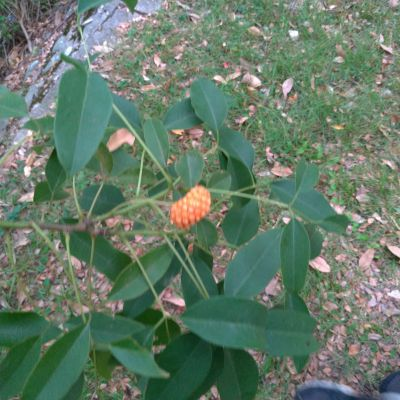eggs: (167, 184, 215, 228)
